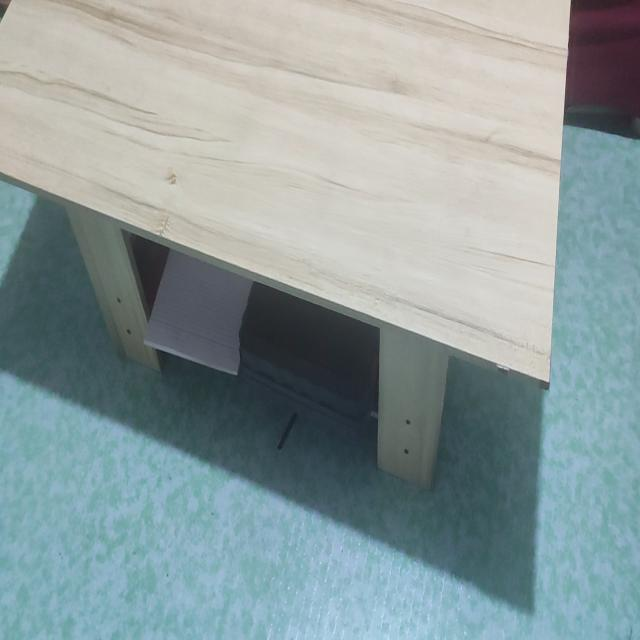table: (0, 0, 576, 514)
